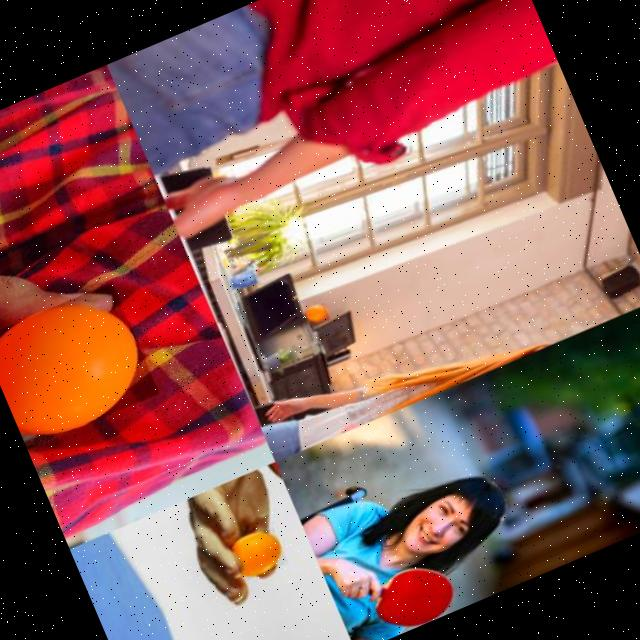ping-pong-ball: (0, 278, 159, 447), (226, 526, 288, 580), (302, 301, 331, 327)
